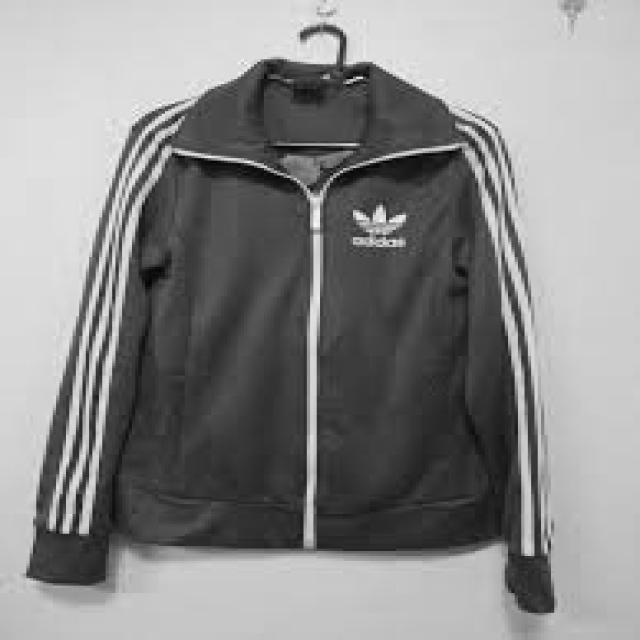Adidas: (351, 203, 411, 248)
